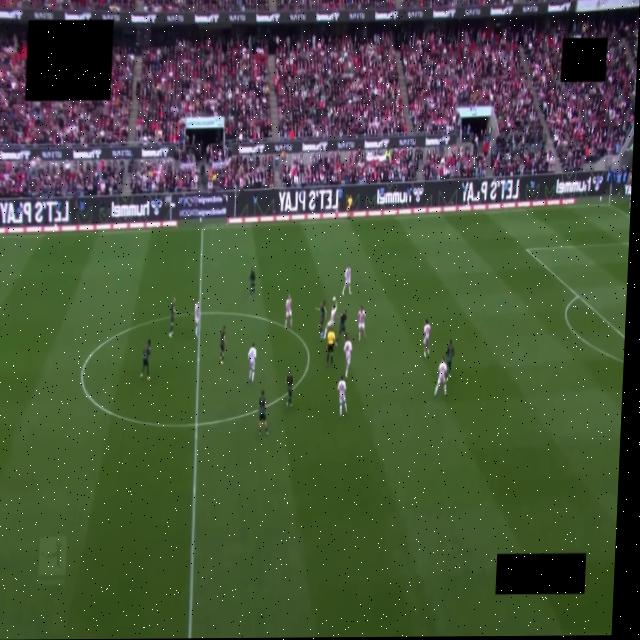ball: (332, 297, 335, 303)
player: (257, 391, 270, 435), (323, 298, 336, 337), (434, 358, 446, 396), (140, 340, 150, 381), (337, 375, 346, 416), (318, 300, 327, 339), (247, 343, 256, 381), (343, 336, 351, 377), (444, 341, 453, 377), (169, 297, 177, 337), (357, 306, 365, 340), (193, 300, 200, 338), (423, 319, 430, 357), (284, 295, 292, 328), (342, 266, 351, 294), (286, 371, 292, 407), (338, 309, 346, 336), (248, 268, 255, 297), (219, 326, 224, 364)
referee: (326, 330, 335, 364)
